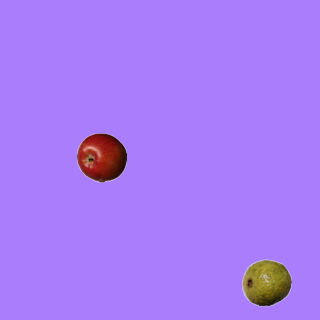Apple Braeburn: (76, 132, 126, 182)
Guava: (241, 257, 291, 307)
